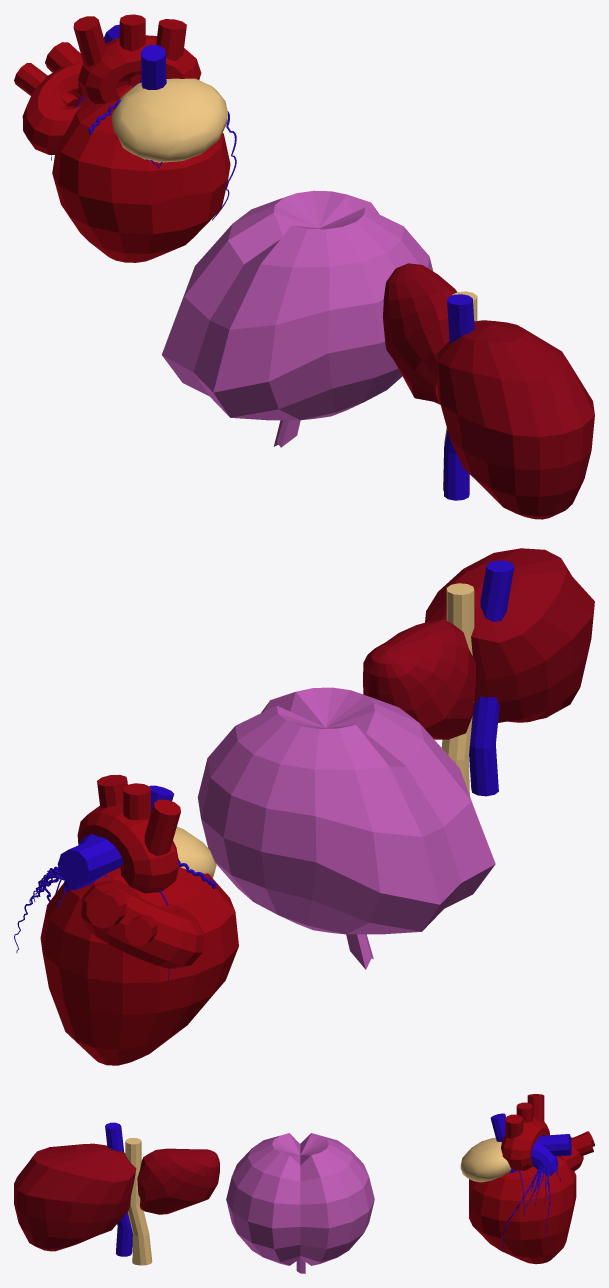
Rendered from AlchemyOrgans.fbx.
3 views of the same model, one above another, from view 1: azimuth 30°, elevation 25°; view 2: azimuth 150°, elevation 25°; view 3: azimuth 270°, elevation 25° (orthographic). The views are drawn at different scales.
Visible parts, largest first — view 1: Break, Heart, Liver; view 2: Break, Heart, Liver; view 3: Liver, Break, Heart.
Boxes of the visible parts, <box> form: Break: <box>162,190,432,447</box>; Heart: <box>14,14,236,262</box>; Liver: <box>382,263,594,519</box>; Break: <box>197,687,495,969</box>; Heart: <box>14,774,238,1065</box>; Liver: <box>363,548,594,796</box>; Liver: <box>14,1122,219,1265</box>; Break: <box>226,1133,374,1273</box>; Heart: <box>460,1094,594,1264</box>.
Bounding box in the file's own units: 2.96 × 3.61 × 10.56.
